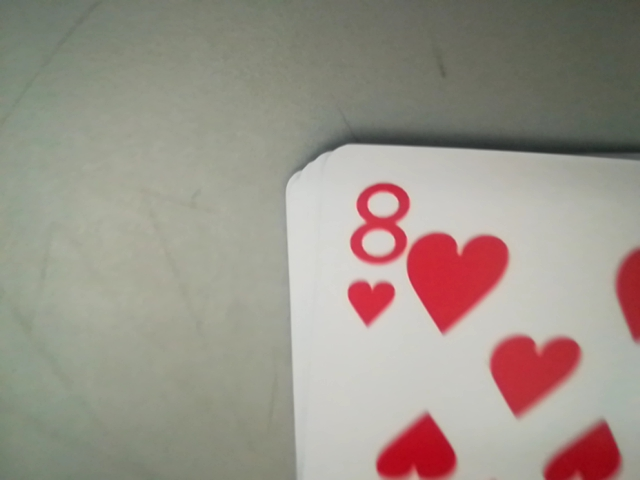hx 8: (333, 182, 417, 326)
